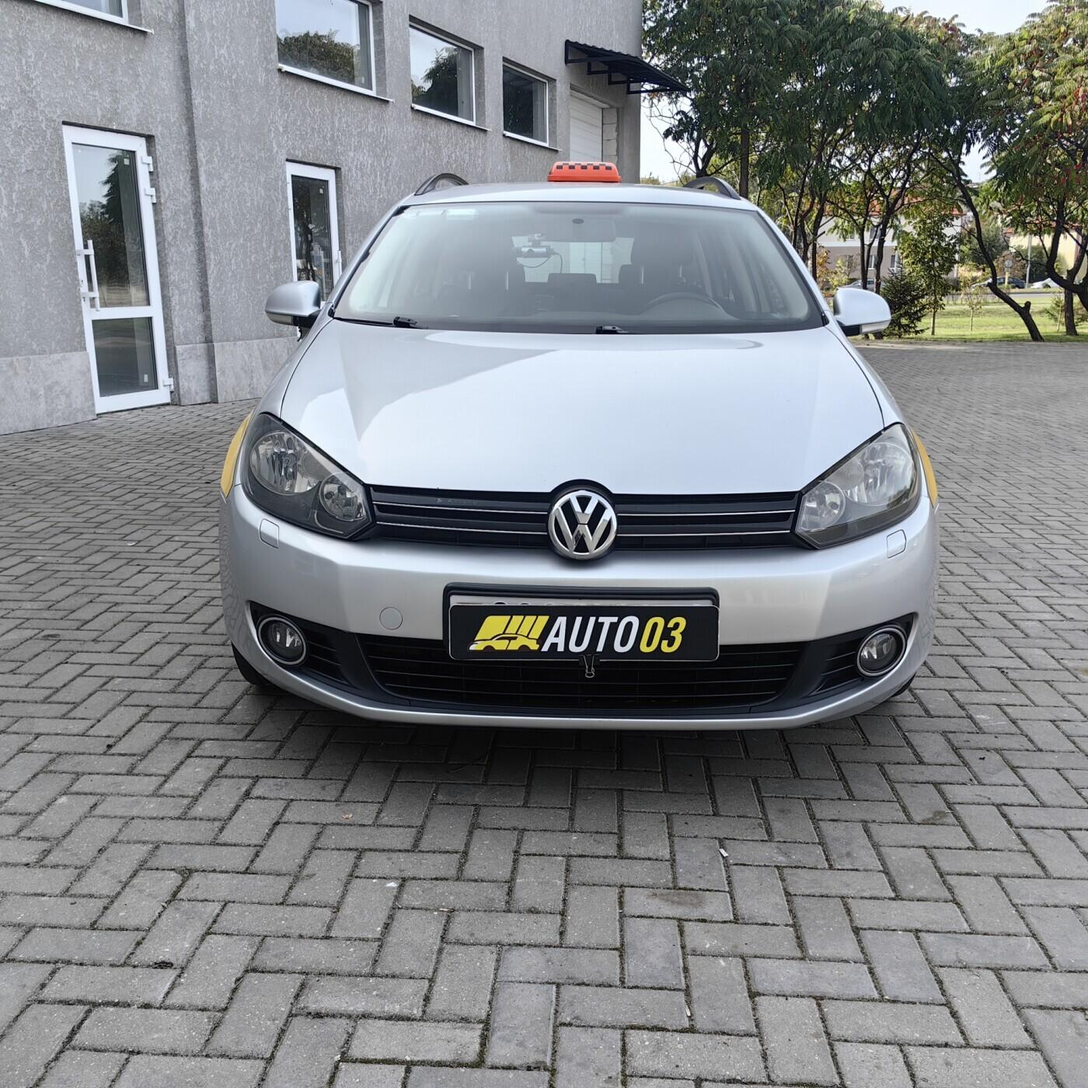Golf_2008-2013: (204, 171, 939, 754)
